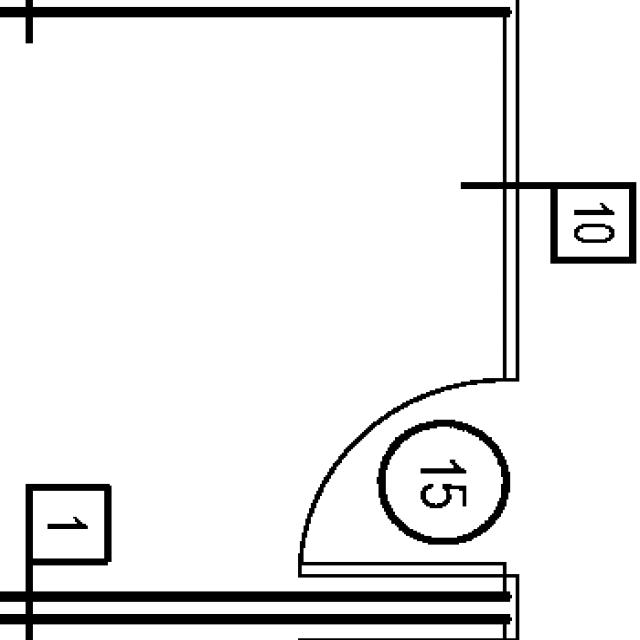Doors: (291, 373, 523, 584)
